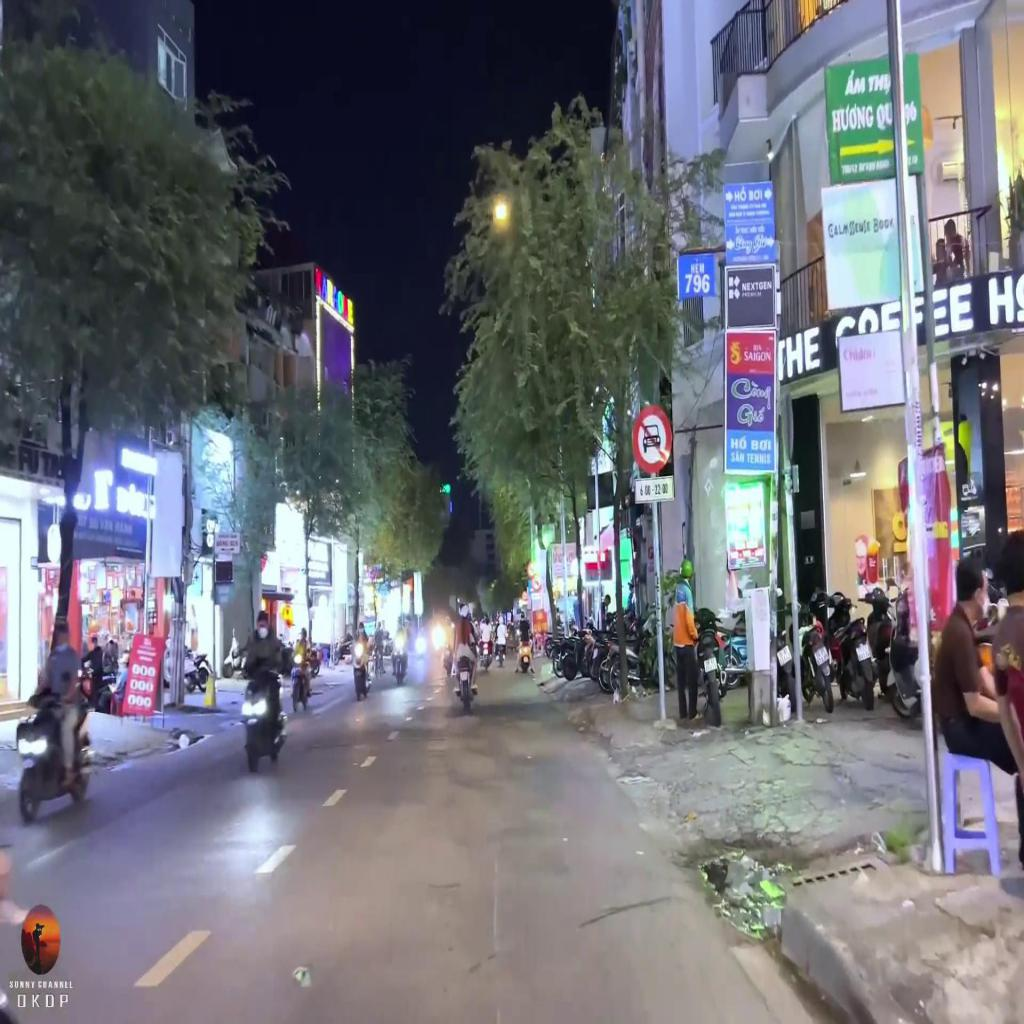cam_o_to: (632, 406, 672, 475)
khac: (635, 477, 674, 502)
